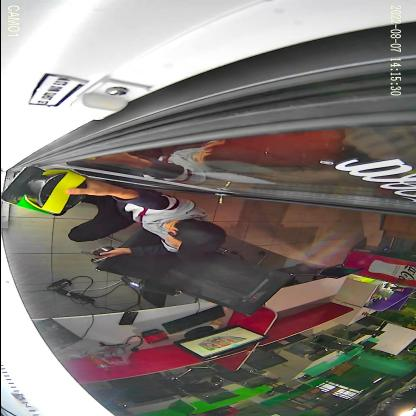green: (0, 166, 67, 216)
yellow: (22, 170, 86, 214)
